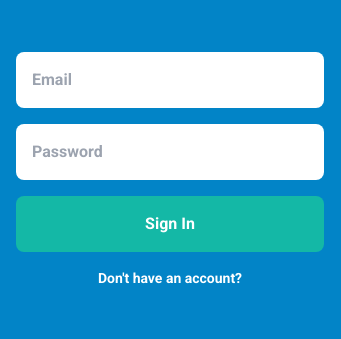
Test: Login screen › Should Register screen render name, email and password input and a button Sign Un
Click the link "Don't have an account?" at (170, 278), box [98,270,242,286]
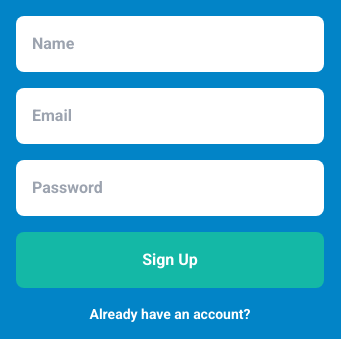
Check: the field with placeholder "Name" is shown, box [16,16,324,72]
Check: the password field with placeholder "Password" is shown, box [16,160,324,216]
Check: the button "Sign Up" is shown, box [16,232,324,288]
